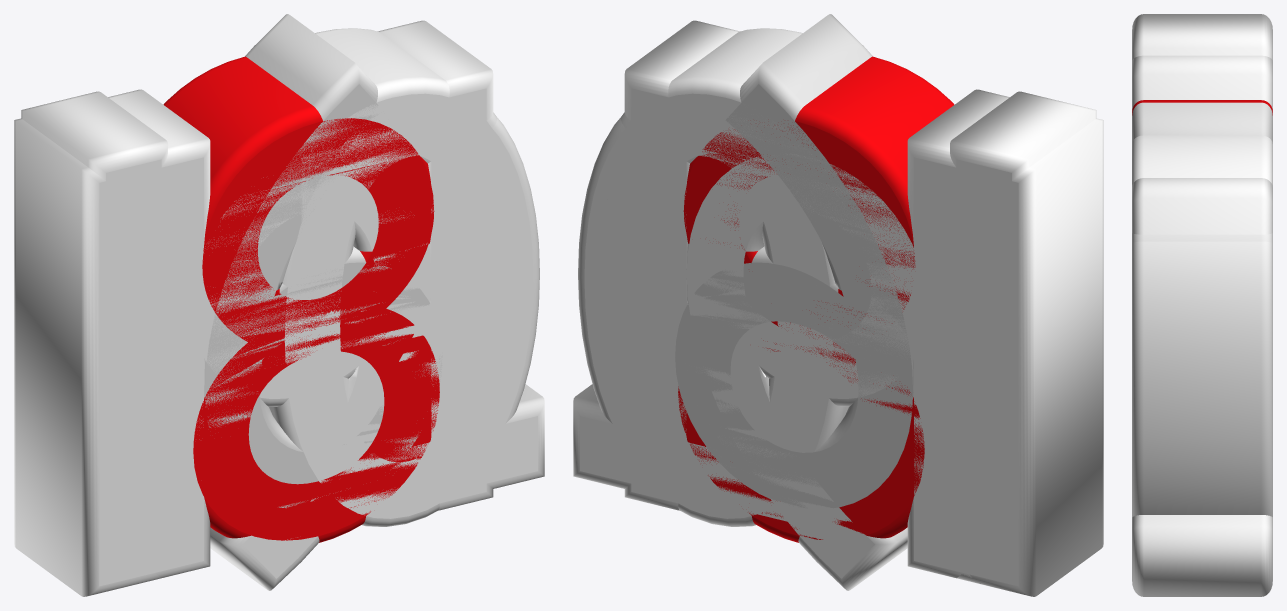
The model's file is num_6.glb.
3 renders of one model, left to right at view 1: azimuth 30°, elevation 25°; view 2: azimuth 150°, elevation 25°; view 3: azimuth 270°, elevation 25°, orthographic. The views are drawn at different scales.
Parts seen in each view (by area): view 1: Text.007, Text.005, Text.008, Text.009, Text.004, Text.006; view 2: Text.007, Text.009, Text.004, Text.008, Text.006, Text.005; view 3: Text.007, Text.009, Text.008, Text.004, Text.005.
Part boxes in pixels (x1=…): Text.007: x1=14, y1=99, x2=539, y2=596; Text.005: x1=163, y1=56, x2=439, y2=542; Text.008: x1=108, y1=20, x2=493, y2=578; Text.009: x1=21, y1=28, x2=544, y2=564; Text.004: x1=204, y1=14, x2=442, y2=508; Text.006: x1=191, y1=163, x2=431, y2=590; Text.007: x1=578, y1=99, x2=1103, y2=596; Text.009: x1=573, y1=28, x2=1096, y2=563; Text.004: x1=675, y1=14, x2=913, y2=508; Text.008: x1=624, y1=20, x2=1009, y2=583; Text.006: x1=686, y1=153, x2=926, y2=590; Text.005: x1=678, y1=56, x2=954, y2=542; Text.007: x1=1132, y1=241, x2=1272, y2=517; Text.009: x1=1132, y1=14, x2=1272, y2=596; Text.008: x1=1132, y1=55, x2=1272, y2=234; Text.004: x1=1132, y1=102, x2=1272, y2=143; Text.005: x1=1132, y1=100, x2=1272, y2=115.
Bounding box in the file's own units: 0.8161 × 0.8563 × 0.24.
